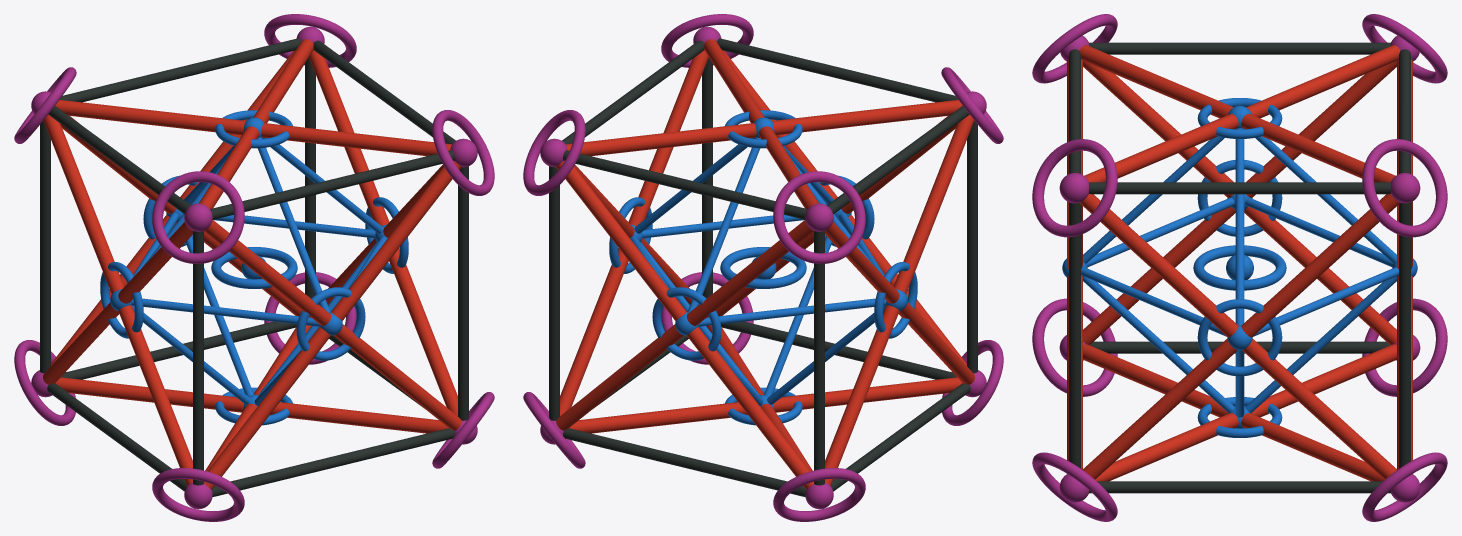
Rendered from nexus.glb.
3 renders of one model, left to right at view 1: azimuth 30°, elevation 25°; view 2: azimuth 150°, elevation 25°; view 3: azimuth 270°, elevation 25°, orthographic. The views are drawn at different scales.
Visible parts, largest first — view 1: tetra_b_edge_2, tetra_b_edge_4, tetra_b_edge_0, tetra_a_edge_1, tetra_a_edge_5, tetra_a_edge_3, node_corner_3_ring, tetra_a_edge_0, cube_edge_6, cube_edge_4, cube_edge_7, cube_edge_1 (+35 smaller); view 2: tetra_a_edge_2, tetra_a_edge_4, tetra_a_edge_0, tetra_b_edge_1, tetra_b_edge_5, tetra_b_edge_3, node_corner_2_ring, tetra_b_edge_0, cube_edge_7, cube_edge_2, cube_edge_6, cube_edge_3 (+35 smaller); view 3: tetra_a_edge_5, tetra_b_edge_5, tetra_a_edge_0, tetra_b_edge_0, tetra_a_edge_4, tetra_b_edge_4, tetra_a_edge_1, tetra_b_edge_1, cube_edge_5, cube_edge_11, cube_edge_8, node_corner_6_ring (+33 smaller).
Boxes of the visible parts, x1=… form: tetra_b_edge_2: x1=204, y1=161, x2=461, y2=489; tetra_b_edge_4: x1=55, y1=100, x2=451, y2=156; tetra_b_edge_0: x1=43, y1=115, x2=192, y2=485; tetra_a_edge_1: x1=55, y1=377, x2=448, y2=433; tetra_a_edge_5: x1=309, y1=50, x2=457, y2=415; tetra_a_edge_3: x1=204, y1=220, x2=461, y2=430; node_corner_3_ring: x1=152, y1=171, x2=244, y2=263; tetra_a_edge_0: x1=43, y1=222, x2=192, y2=384; cube_edge_6: x1=59, y1=38, x2=300, y2=102; cube_edge_4: x1=212, y1=428, x2=454, y2=496; cube_edge_7: x1=210, y1=150, x2=454, y2=219; cube_edge_1: x1=40, y1=121, x2=50, y2=373; tetra_a_edge_2: x1=556, y1=161, x2=813, y2=489; tetra_a_edge_4: x1=566, y1=100, x2=962, y2=156; tetra_a_edge_0: x1=825, y1=115, x2=974, y2=485; tetra_b_edge_1: x1=569, y1=377, x2=962, y2=433; tetra_b_edge_5: x1=560, y1=50, x2=708, y2=415; tetra_b_edge_3: x1=556, y1=220, x2=813, y2=430; node_corner_2_ring: x1=773, y1=171, x2=865, y2=263; tetra_b_edge_0: x1=825, y1=222, x2=974, y2=384; cube_edge_7: x1=717, y1=38, x2=958, y2=102; cube_edge_2: x1=563, y1=428, x2=805, y2=496; cube_edge_6: x1=563, y1=150, x2=807, y2=219; cube_edge_3: x1=967, y1=121, x2=977, y2=373; tetra_a_edge_5: x1=1082, y1=194, x2=1399, y2=479; tetra_b_edge_5: x1=1080, y1=194, x2=1397, y2=479; tetra_a_edge_0: x1=1083, y1=61, x2=1396, y2=344; tetra_b_edge_0: x1=1083, y1=61, x2=1396, y2=344; tetra_a_edge_4: x1=1079, y1=45, x2=1395, y2=182; tetra_b_edge_4: x1=1084, y1=45, x2=1400, y2=182; tetra_a_edge_1: x1=1095, y1=344, x2=1396, y2=481; tetra_b_edge_1: x1=1083, y1=344, x2=1384, y2=481; cube_edge_5: x1=1089, y1=42, x2=1390, y2=54; cube_edge_11: x1=1089, y1=182, x2=1390, y2=194; cube_edge_8: x1=1089, y1=481, x2=1390, y2=493; node_corner_6_ring: x1=1362, y1=139, x2=1447, y2=237.
Size of the model in its own units: 0.7551 by 0.7551 by 0.7552.
